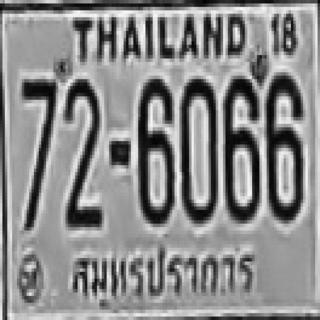N00: (180, 78, 217, 223)
N02: (64, 78, 103, 228)
N06: (267, 73, 303, 221), (222, 73, 258, 221), (138, 79, 174, 224)
N07: (19, 76, 56, 230)
P57: (66, 240, 256, 311)
